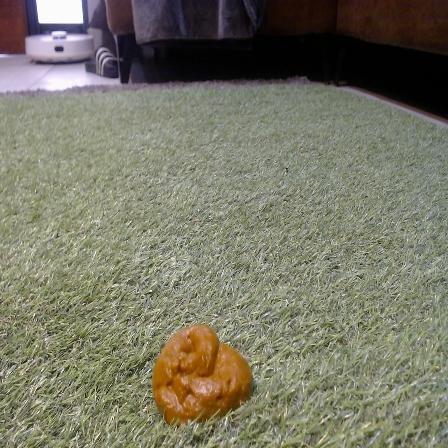dog-poop: (148, 314, 260, 428)
